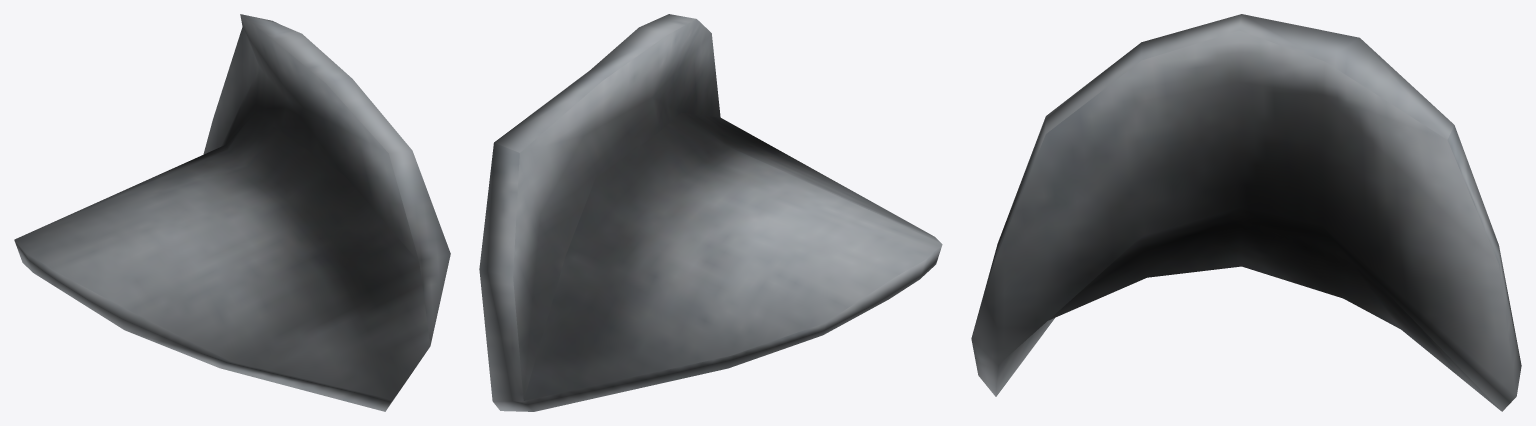
File: grave_marine_shoulder_r.glb
3 renders of one model, left to right at view 1: azimuth 30°, elevation 25°; view 2: azimuth 150°, elevation 25°; view 3: azimuth 270°, elevation 25°, orthographic. The views are drawn at different scales.
Parts seen in each view (by area): view 1: scythe_marine_shoulder_r; view 2: scythe_marine_shoulder_r; view 3: scythe_marine_shoulder_r.
Boxes of the visible parts, box(x1,y1,x2,y2) form: scythe_marine_shoulder_r: box(14, 14, 450, 411); scythe_marine_shoulder_r: box(479, 14, 942, 411); scythe_marine_shoulder_r: box(971, 14, 1521, 411).
Bounding box in the file's own units: 1.34 × 1.18 × 1.56.
Materials: 1 (1 with a texture image).
